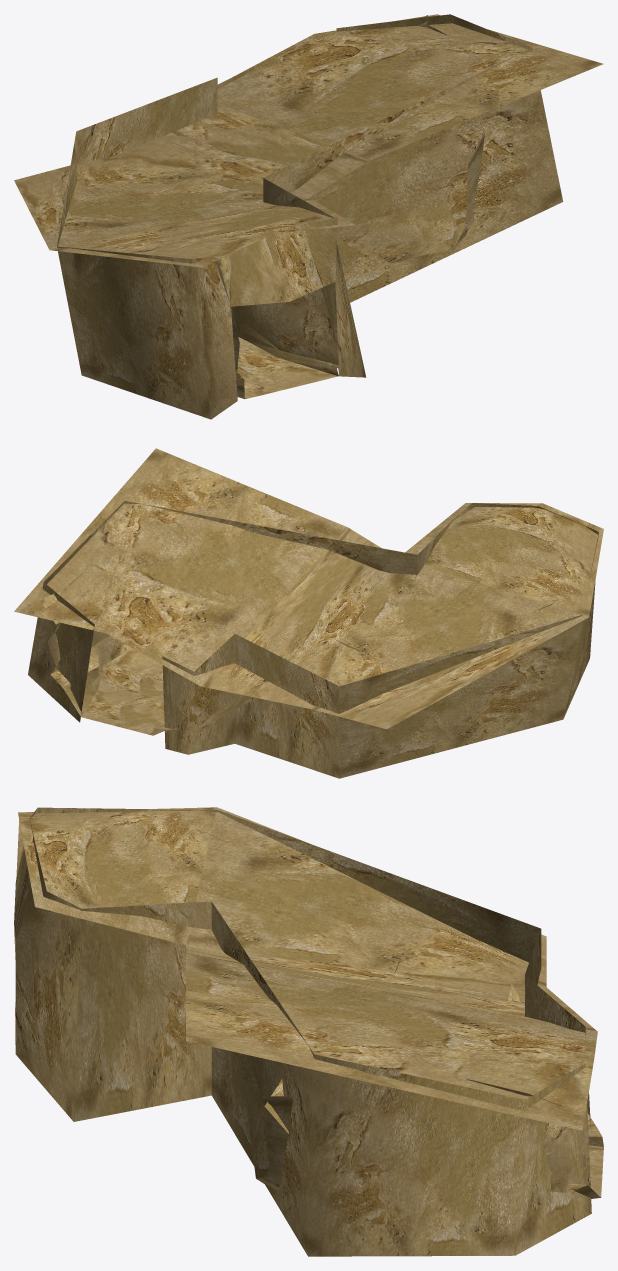
Rendered from tunnel_cave_left.fbx.
3 renders of one model, top to bottom at view 1: azimuth 30°, elevation 25°; view 2: azimuth 150°, elevation 25°; view 3: azimuth 270°, elevation 25°, orthographic. The views are drawn at different scales.
Visible parts, largest first — view 1: BGWalls, ceiling1, Rocks_1, floor_main, floor_sides, Rocks_103; view 2: ceiling1, BGWalls, floor_main, floor_sides, Rocks_103, Rocks_119; view 3: BGWalls, ceiling1, Rocks_103, Rocks_1, floor_sides, floor_main.
Boxes of the visible parts, bbox=[...] form: BGWalls: bbox=[57, 14, 563, 419]; ceiling1: bbox=[14, 14, 603, 267]; Rocks_1: bbox=[231, 148, 480, 365]; floor_main: bbox=[237, 238, 458, 398]; floor_sides: bbox=[235, 226, 468, 398]; Rocks_103: bbox=[419, 15, 485, 229]; ceiling1: bbox=[14, 448, 603, 729]; BGWalls: bbox=[28, 501, 598, 778]; floor_main: bbox=[81, 648, 164, 735]; floor_sides: bbox=[50, 636, 169, 735]; Rocks_103: bbox=[39, 569, 109, 673]; Rocks_119: bbox=[169, 695, 252, 729]; BGWalls: bbox=[14, 807, 591, 1256]; ceiling1: bbox=[18, 807, 597, 1130]; Rocks_103: bbox=[261, 1078, 575, 1192]; Rocks_1: bbox=[16, 1025, 288, 1190]; floor_sides: bbox=[256, 1128, 603, 1198]; floor_main: bbox=[15, 1002, 603, 1197].
Bounding box in the file's own units: 18721 × 6714 × 14723.
Materials: 1 (1 with a texture image).
